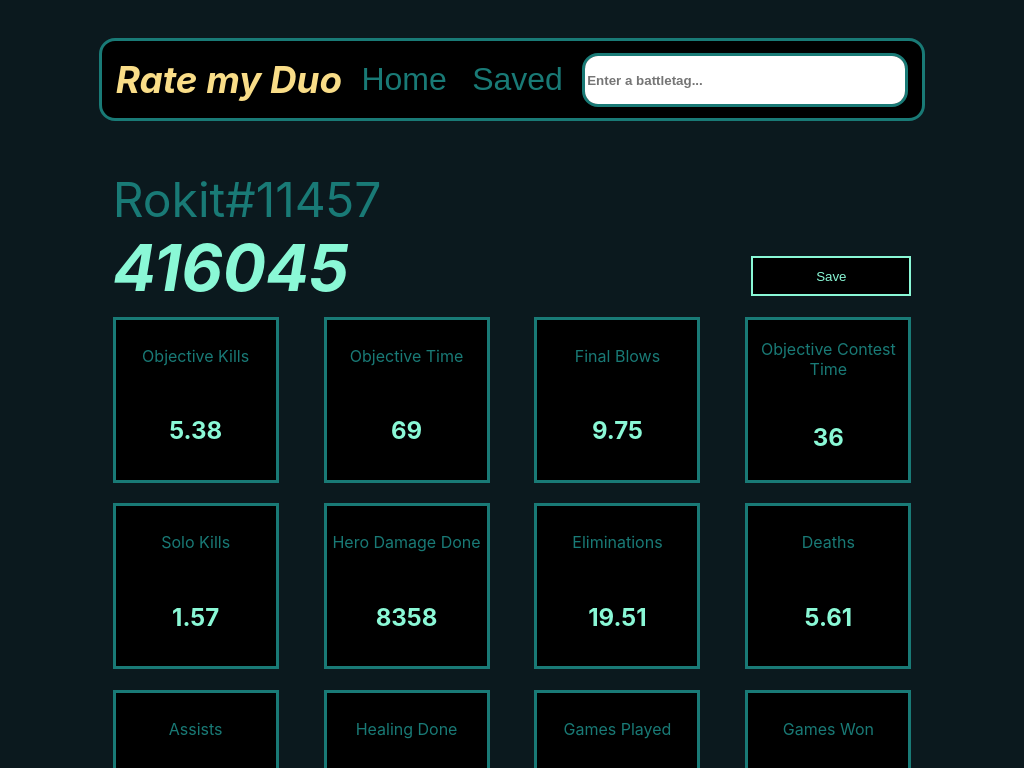
Test: User flow testing › should be able to search save an account, view it in the saved section, then be able to remove it from saved
Step 1. Click the button "Save" → (831, 276), box [751,256,911,296]
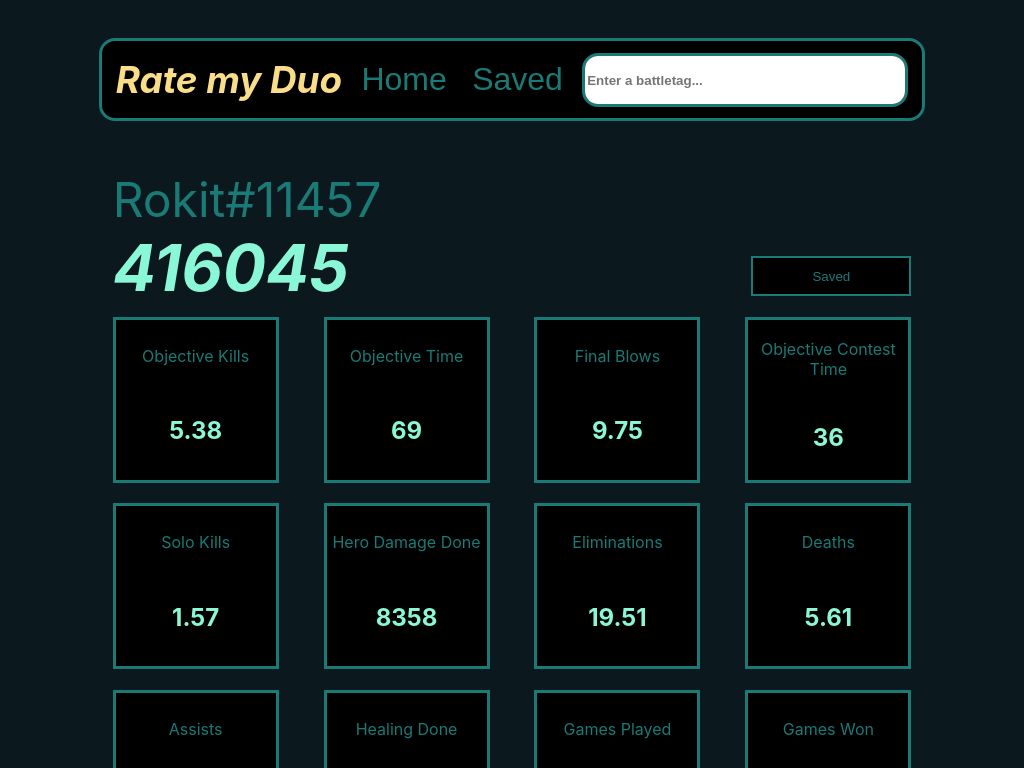
Step 2. Click the button "Saved" in the row of "Rate my Duo" → (518, 80), box [466,41,569,118]
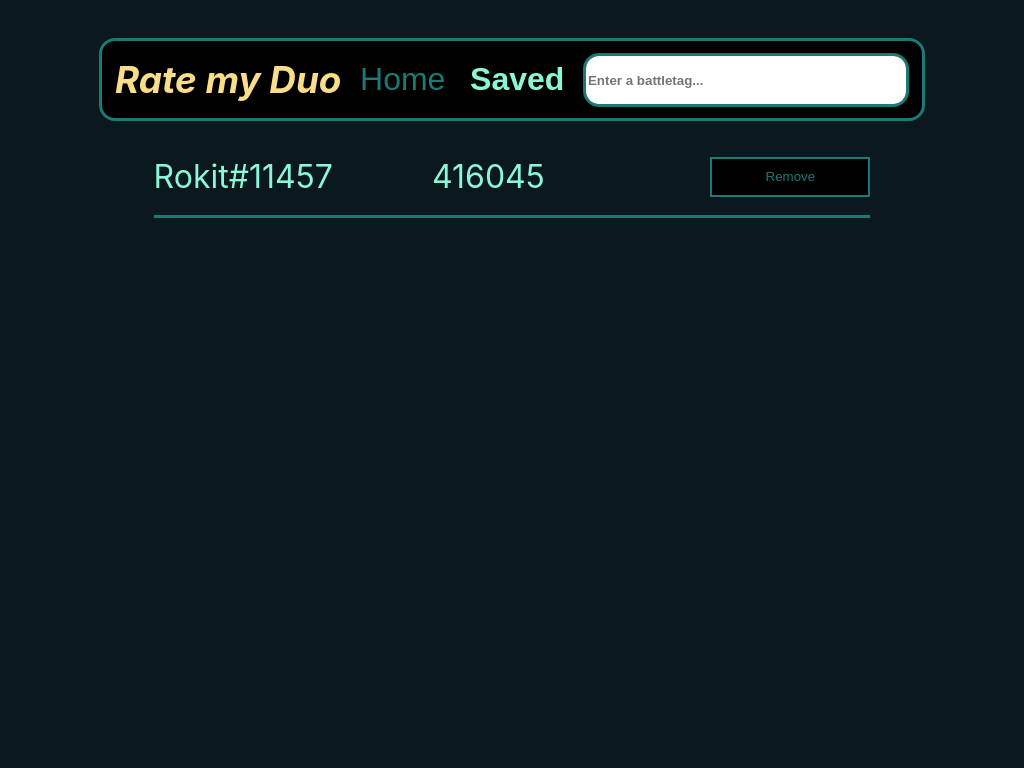
expect the link "Rokit#11457" is shown: met, box [154,157,333,196]
Step 3. Click the button "Remove" → (790, 177), box [710,157,870,197]
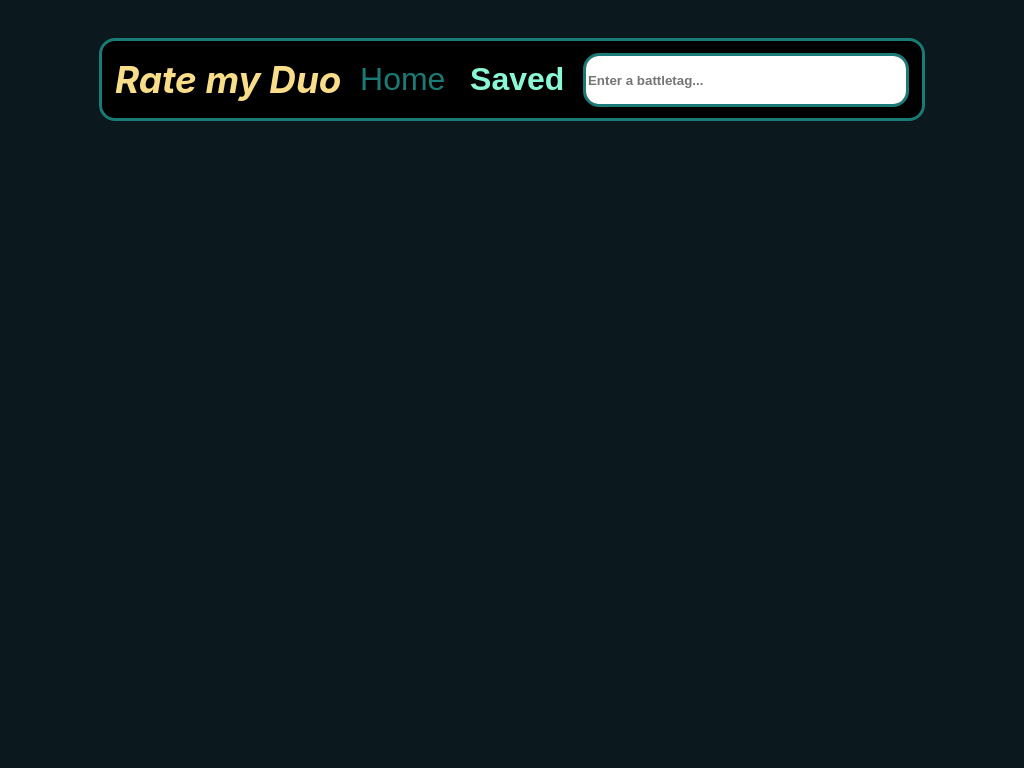
expect the element with class "saved-tile" is gone: met
